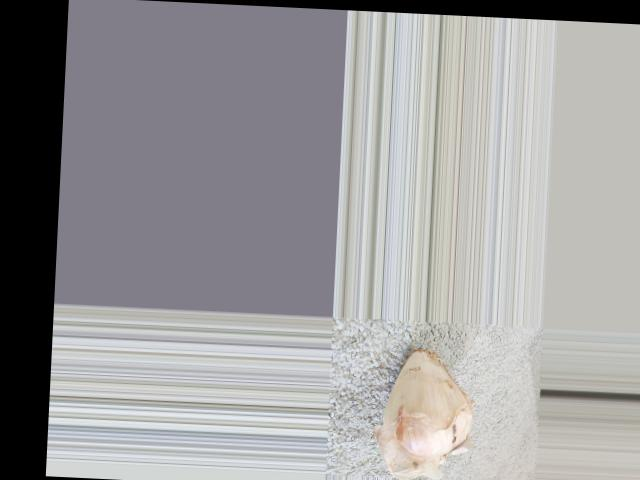onion: (387, 346, 477, 455)
